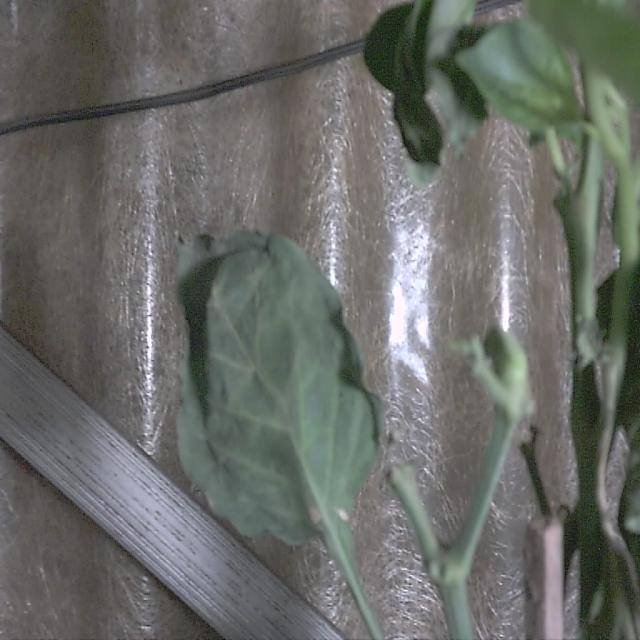Leaf: (172, 228, 383, 546)
